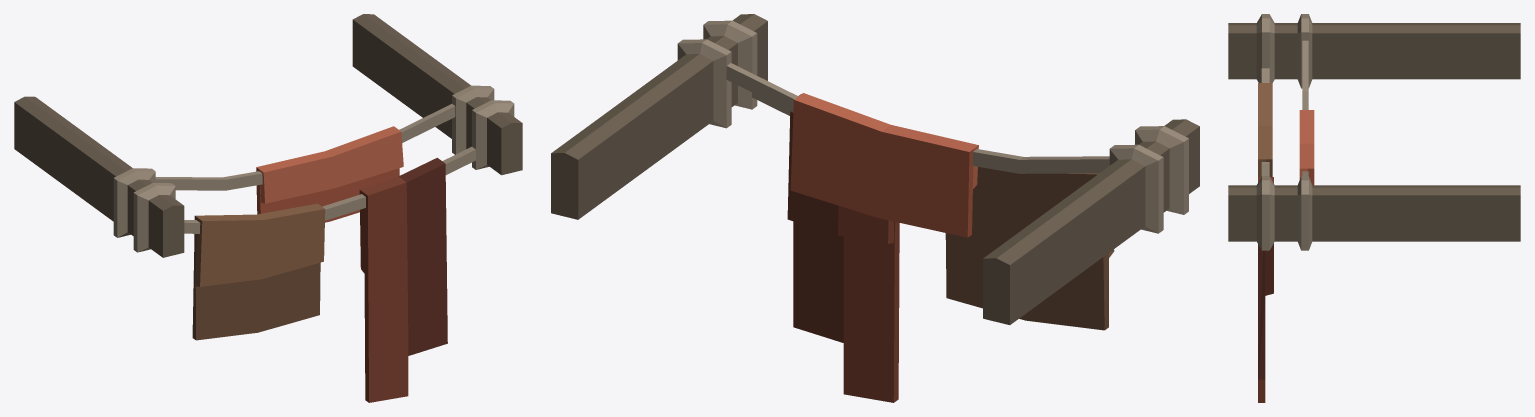
The model's file is SM_Prop_ClothesLine_01.glb.
The picture shows the model from 3 angles, left to right: view 1: azimuth 30°, elevation 25°; view 2: azimuth 150°, elevation 25°; view 3: azimuth 270°, elevation 25°; orthographic projection. The views are drawn at different scales.
Visible parts, largest first — view 1: SM_Prop_ClothesLine_01_part00; view 2: SM_Prop_ClothesLine_01_part00; view 3: SM_Prop_ClothesLine_01_part00.
Part boxes in pixels (<box>): SM_Prop_ClothesLine_01_part00: <box>14,14,522,402</box>; SM_Prop_ClothesLine_01_part00: <box>551,14,1199,402</box>; SM_Prop_ClothesLine_01_part00: <box>1228,14,1520,402</box>.
Size of the model in its own units: 1.5 by 1.03 by 1.03.
Materials: 1 (1 with a texture image).
